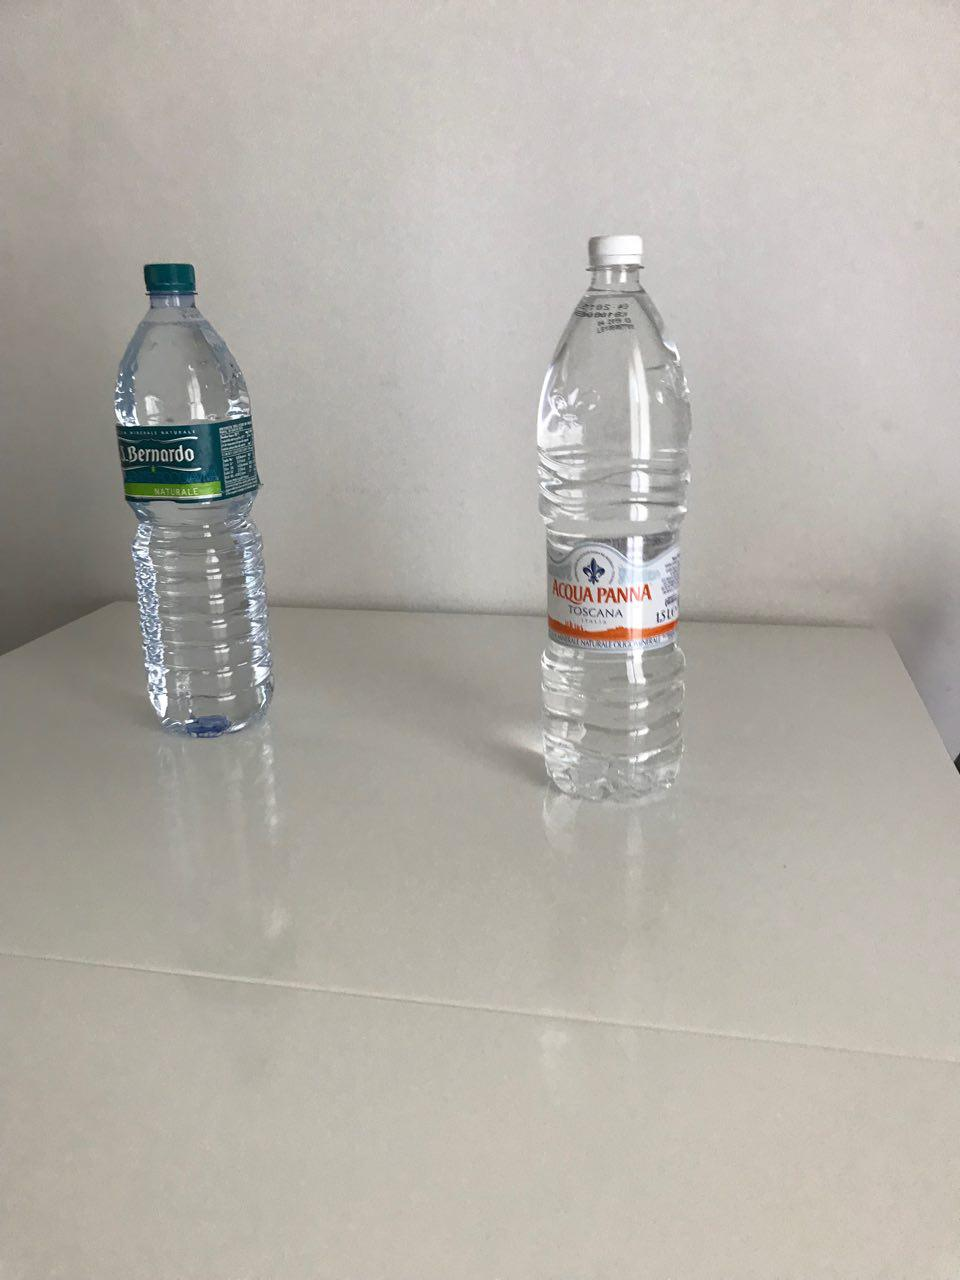san_bernardo: (112, 262, 276, 739)
